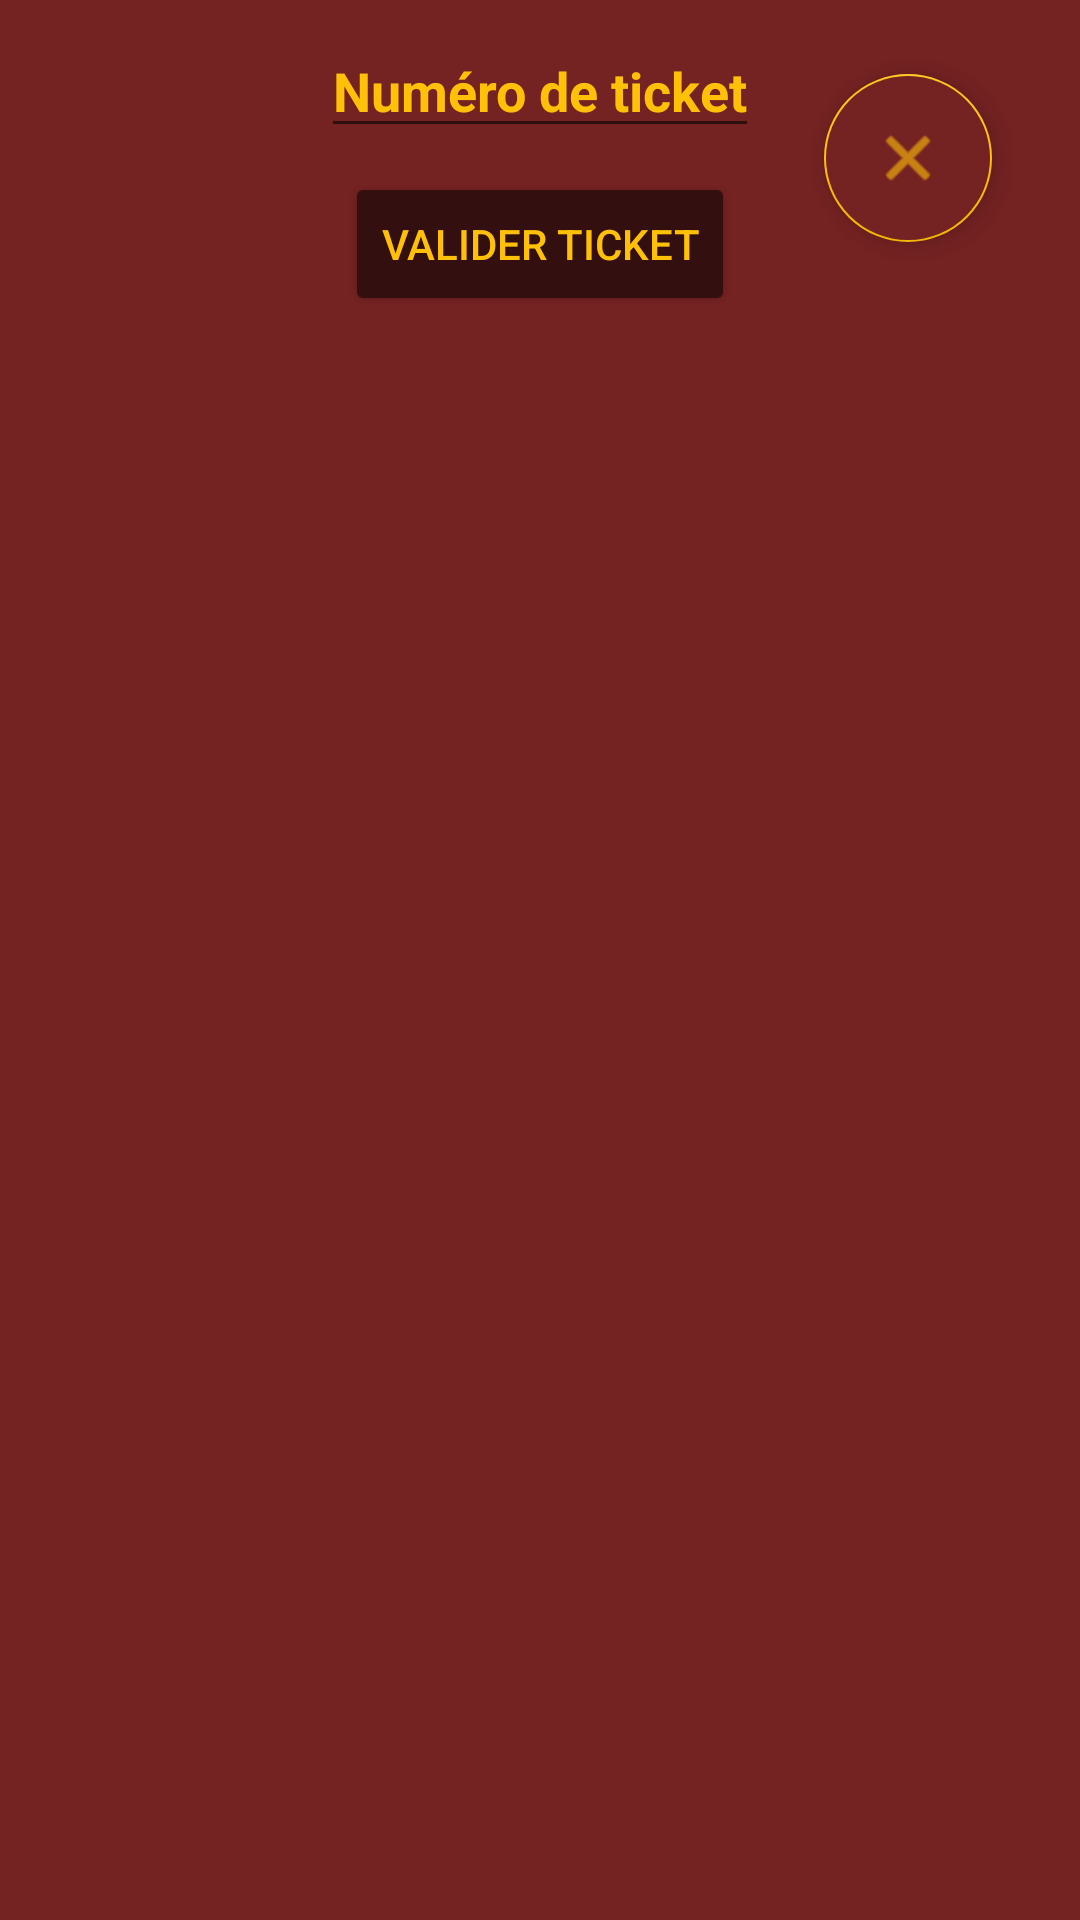

Icon bounding boxes for this 1080 × 1920 phone screenshot, format (x1, y1, x2, y2):
Annuler la recherche: (824, 74, 992, 242)
